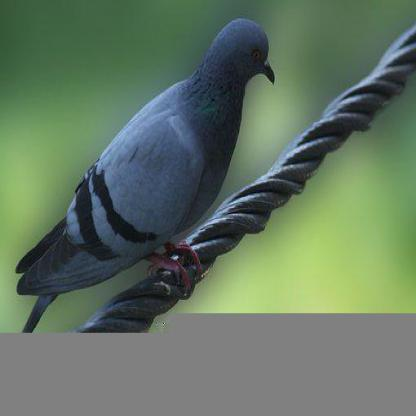Rock Pigeon: (22, 22, 278, 306)
